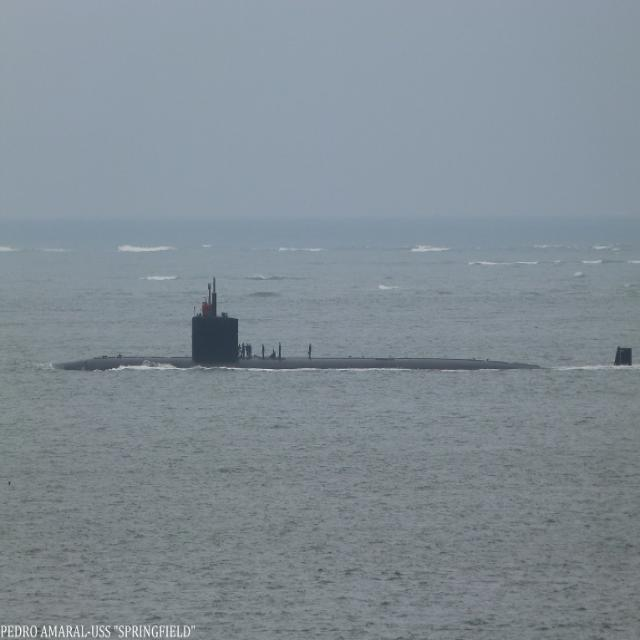submarine: (53, 277, 629, 374)
